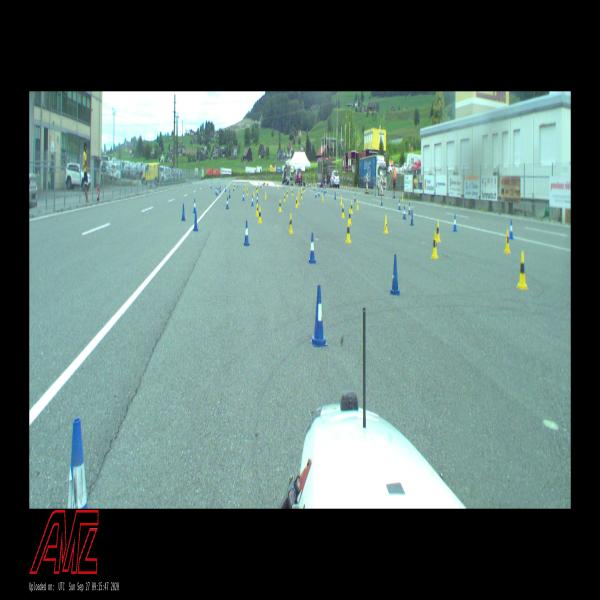blue_cone: (68, 417, 88, 509), (310, 286, 327, 346), (390, 255, 400, 295), (309, 233, 316, 263), (244, 221, 250, 245), (508, 220, 514, 238), (194, 211, 198, 231), (181, 204, 186, 220), (453, 214, 457, 231), (410, 210, 414, 226), (193, 199, 196, 213), (403, 206, 406, 219), (226, 197, 229, 209), (251, 195, 254, 206), (408, 203, 411, 214), (398, 200, 401, 210), (242, 192, 245, 201), (256, 193, 258, 204), (216, 188, 218, 196), (228, 190, 230, 198), (315, 190, 317, 198)
yellow_cone: (517, 252, 528, 289), (431, 232, 439, 258), (345, 219, 352, 243), (504, 229, 511, 253), (436, 221, 441, 242), (288, 214, 293, 234), (384, 215, 388, 234), (258, 206, 262, 223), (341, 203, 345, 218), (278, 199, 282, 212), (349, 209, 352, 225), (256, 203, 259, 216), (356, 199, 359, 210), (295, 197, 298, 207), (340, 196, 343, 205), (351, 201, 353, 214), (284, 193, 286, 202), (246, 187, 248, 196), (298, 195, 300, 204), (265, 191, 267, 199), (292, 188, 294, 196), (322, 194, 324, 202), (253, 190, 255, 198), (301, 192, 303, 199), (287, 190, 288, 197), (256, 186, 257, 193)
